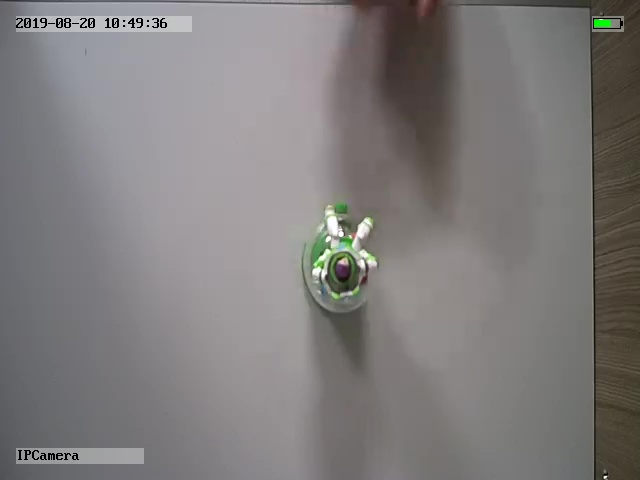buzz: (298, 203, 380, 319)
